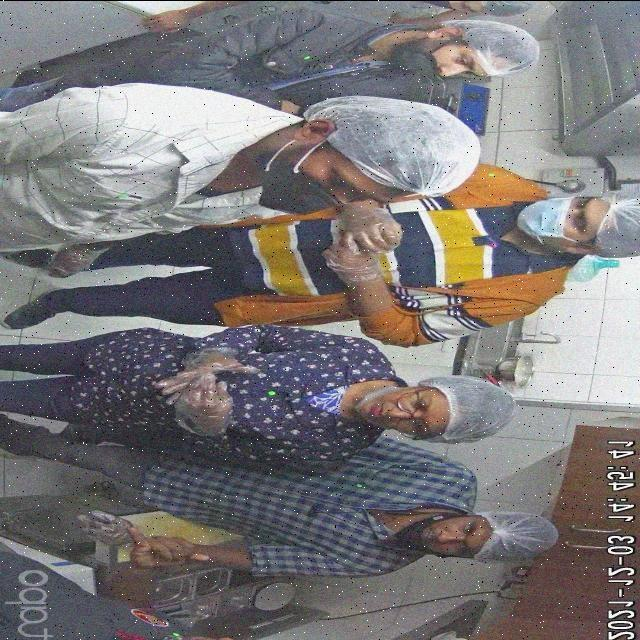apron: (162, 348, 255, 388), (167, 385, 234, 436)
gloves: (332, 107, 469, 181), (449, 377, 508, 443), (593, 178, 640, 253), (468, 24, 533, 68), (489, 519, 551, 565)
mask: (254, 174, 334, 212), (520, 192, 564, 238)
no_hairnet: (406, 522, 464, 552), (362, 397, 409, 432), (408, 48, 458, 76)
